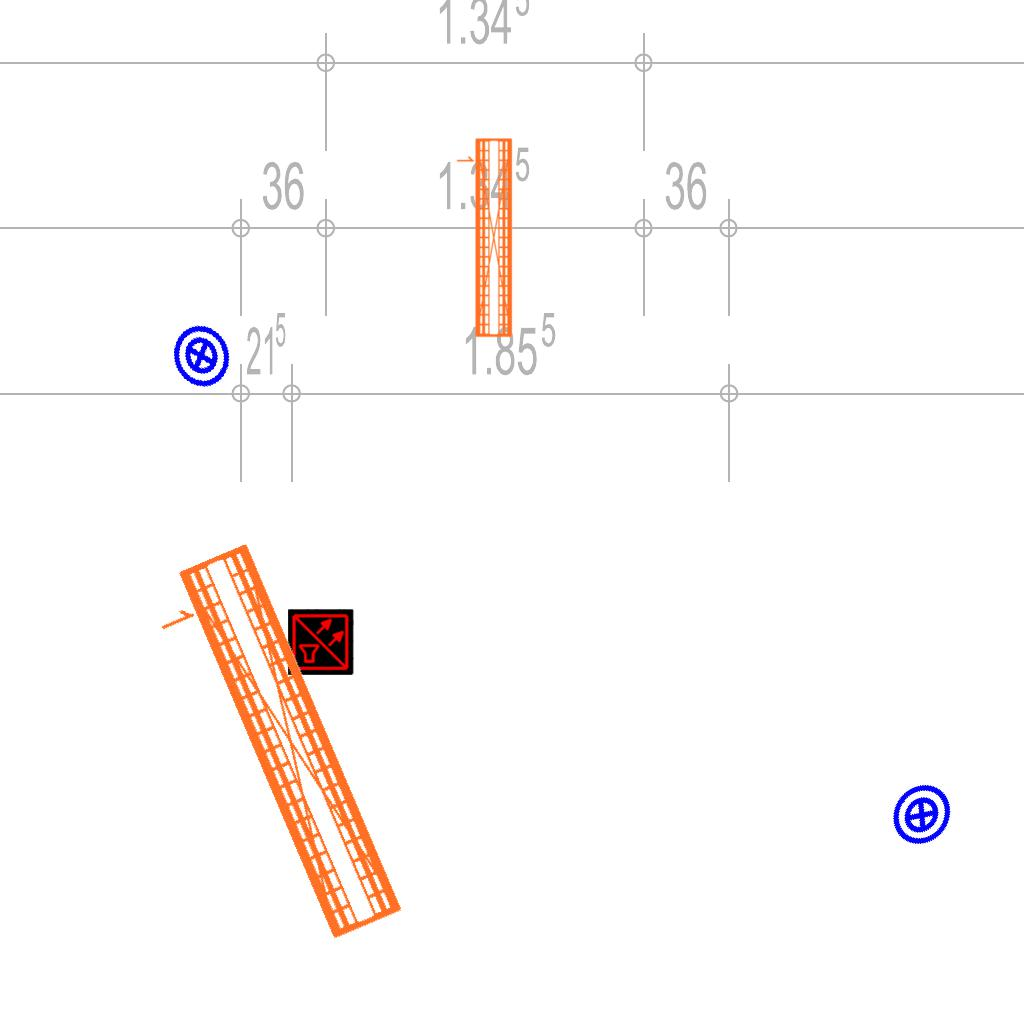Buero_Pendelleuchten_LED: (132, 533, 415, 965), (452, 135, 517, 341)
OKW_Multisensormelder_(Kombination_optischer_Rauch-Kahlenmonoxid_Waerme-Melder): (288, 609, 354, 675)
Taster_beleuchtet: (875, 768, 969, 862), (159, 314, 243, 398)
